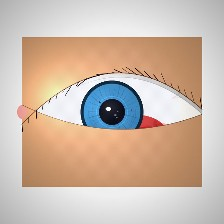hemorrhage_spot: (86, 93, 177, 166)
